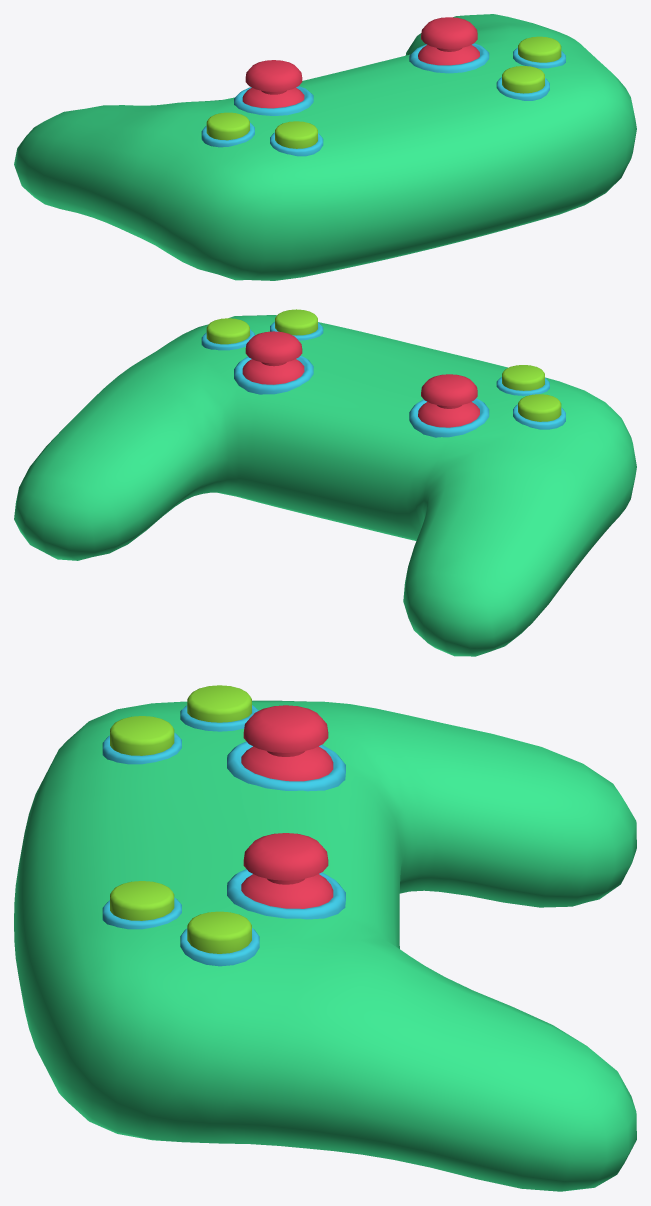
File: TestController.FBX
3 renders of one model, top to bottom at view 1: azimuth 30°, elevation 25°; view 2: azimuth 150°, elevation 25°; view 3: azimuth 270°, elevation 25°, orthographic. The views are drawn at different scales.
Visible parts, largest first — view 1: Gamepad, RightStick, LeftStick, ButtonBases, StickBase, Button_A, Button_B, Button_Y, Button_X; view 2: Gamepad, LeftStick, RightStick, StickBase, ButtonBases, Button_A, Button_X, Button_B, Button_Y; view 3: Gamepad, RightStick, LeftStick, StickBase, ButtonBases, Button_X, Button_Y, Button_B, Button_A.
Part boxes in pixels (x1,y1,x2,y2): Gamepad: (14, 14, 636, 280); RightStick: (242, 60, 304, 108); LeftStick: (418, 17, 479, 65); ButtonBases: (201, 47, 565, 156); StickBase: (234, 43, 489, 115); Button_A: (206, 112, 249, 140); Button_B: (275, 121, 317, 148); Button_Y: (502, 66, 544, 93); Button_X: (518, 36, 561, 62); Gamepad: (14, 315, 636, 656); LeftStick: (242, 331, 304, 384); RightStick: (418, 374, 479, 427); StickBase: (234, 355, 489, 437); ButtonBases: (201, 322, 565, 429); Button_A: (518, 394, 561, 421); Button_X: (206, 318, 249, 344); Button_B: (502, 365, 544, 390); Button_Y: (275, 309, 317, 335); Gamepad: (14, 700, 636, 1191); RightStick: (241, 705, 333, 781); LeftStick: (241, 833, 333, 908); StickBase: (227, 741, 345, 919); ButtonBases: (102, 705, 259, 966); Button_X: (187, 911, 251, 953); Button_Y: (110, 881, 174, 920); Button_B: (110, 716, 174, 755); Button_A: (187, 685, 251, 722).
Size of the model in its own units: 6.86 by 2.23 by 4.87.
